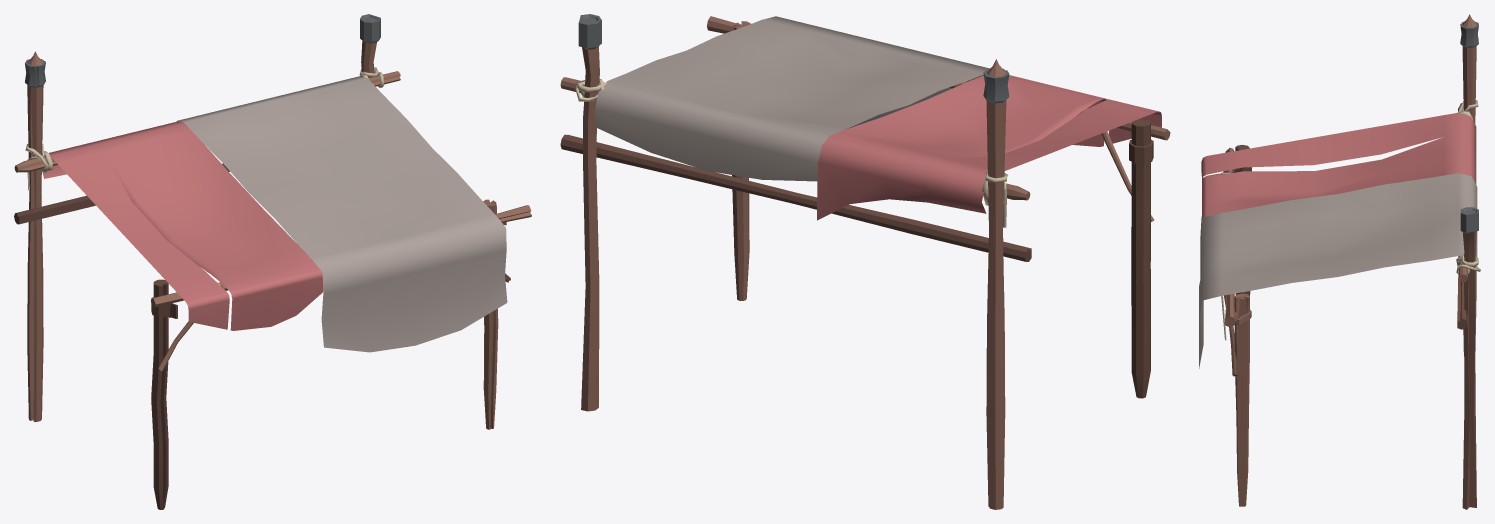
File: SM_Market_Tent_02.fbx
The picture shows the model from 3 angles, left to right: view 1: azimuth 30°, elevation 25°; view 2: azimuth 150°, elevation 25°; view 3: azimuth 270°, elevation 25°; orthographic projection. The views are drawn at different scales.
Visible parts, largest first — view 1: SM_Market_Tent_02; view 2: SM_Market_Tent_02; view 3: SM_Market_Tent_02.
Part boxes in pixels (x1,y1,x2,y2): SM_Market_Tent_02: (14,14,531,509); SM_Market_Tent_02: (560,14,1170,509); SM_Market_Tent_02: (1199,14,1480,509).
Bounding box in the file's own units: 301 × 274 × 205.
